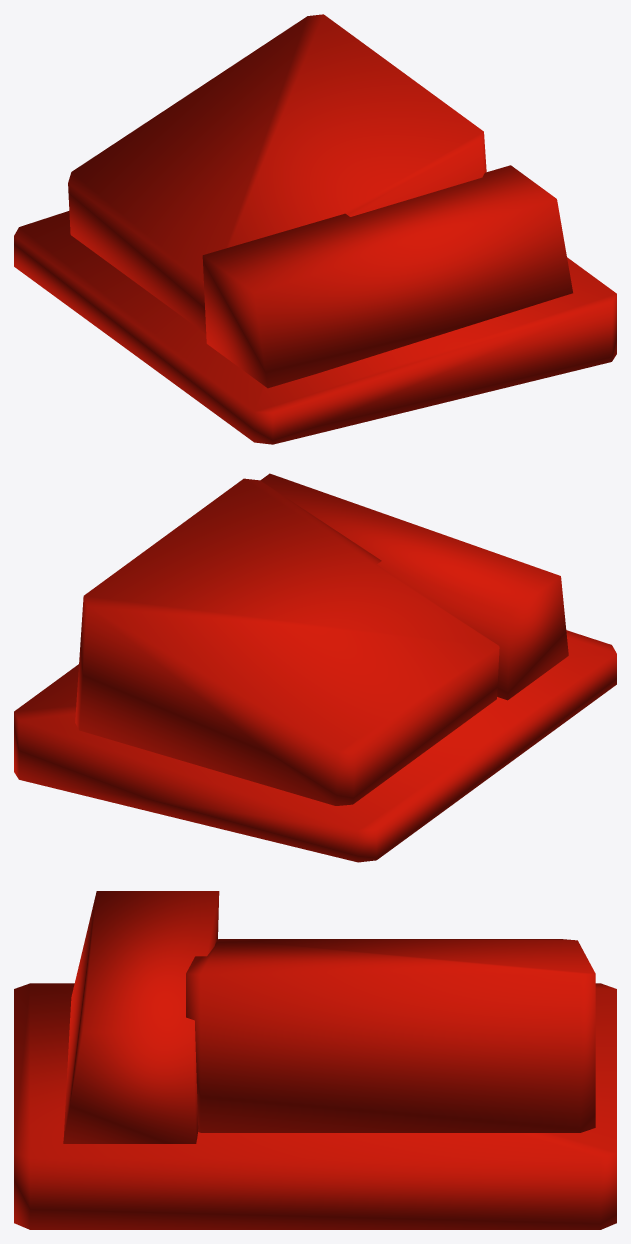
The model's file is UCX_phone.fbx.
3 views of the same model, one above another, from view 1: azimuth 30°, elevation 25°; view 2: azimuth 150°, elevation 25°; view 3: azimuth 270°, elevation 25° (orthographic). The views are drawn at different scales.
Visible parts, largest first — view 1: UCX_phone; view 2: UCX_phone; view 3: UCX_phone.
Boxes of the visible parts, x1,y1,x2,y2 form: UCX_phone: (14,14,616,444); UCX_phone: (14,473,616,862); UCX_phone: (14,891,616,1229).
Bounding box in the file's own units: 0.2074 × 0.101 × 0.2515.
